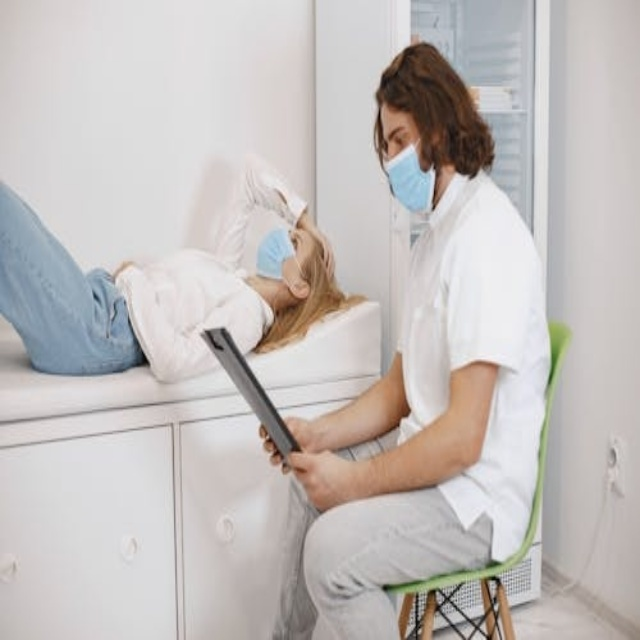Mascara: (383, 138, 436, 212), (256, 228, 298, 281)
Sin_gafas: (378, 129, 416, 165), (285, 213, 303, 267)
Sin_guantes: (279, 440, 361, 515), (298, 216, 336, 288), (258, 420, 298, 473)
